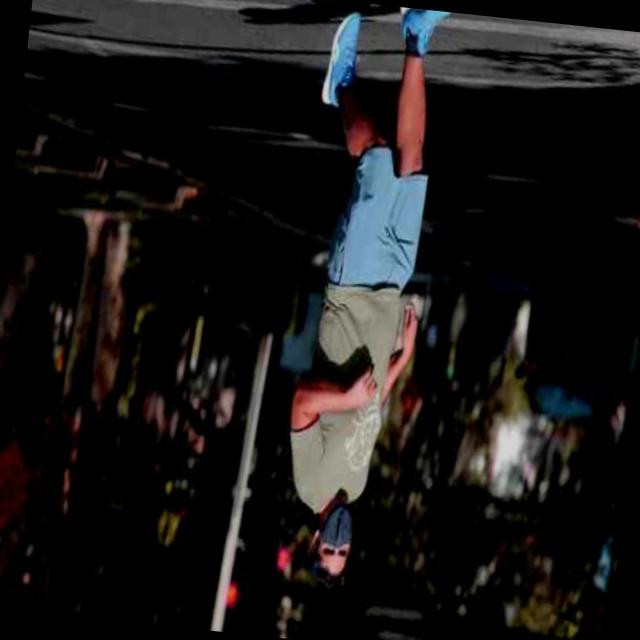person: (214, 0, 479, 617)
